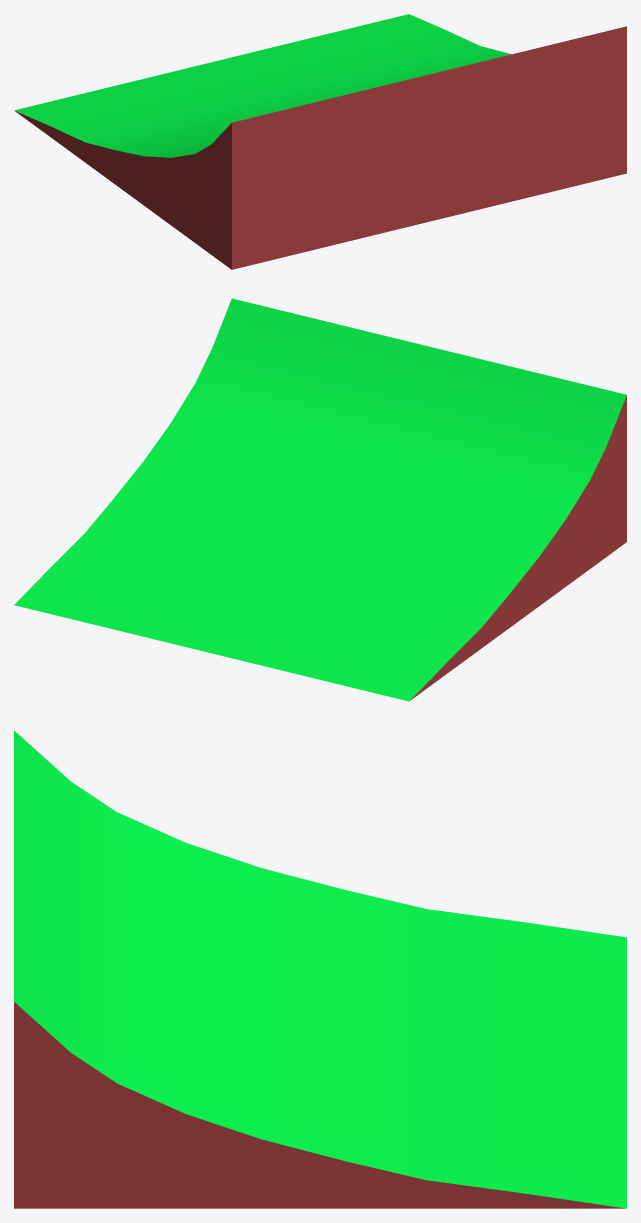
Rendered from 45_degree_ramp (1).fbx.
The picture shows the model from 3 angles, top to bottom: view 1: azimuth 30°, elevation 25°; view 2: azimuth 150°, elevation 25°; view 3: azimuth 270°, elevation 25°; orthographic projection. The views are drawn at different scales.
Parts seen in each view (by area): view 1: Ramp 45 Degree; view 2: Ramp 45 Degree; view 3: Ramp 45 Degree.
Boxes of the visible parts, bbox=[...] form: Ramp 45 Degree: bbox=[14, 14, 626, 269]; Ramp 45 Degree: bbox=[14, 298, 626, 701]; Ramp 45 Degree: bbox=[14, 730, 626, 1208].
Bounding box in the file's own units: 2809 × 1001 × 2683.
